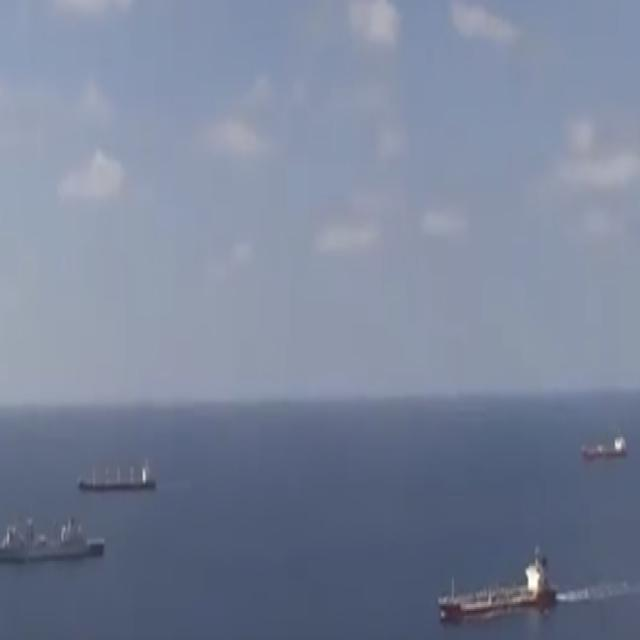cargoship: (436, 545, 558, 625), (82, 454, 162, 493), (574, 427, 634, 465)
navalvessels: (0, 514, 108, 568)
